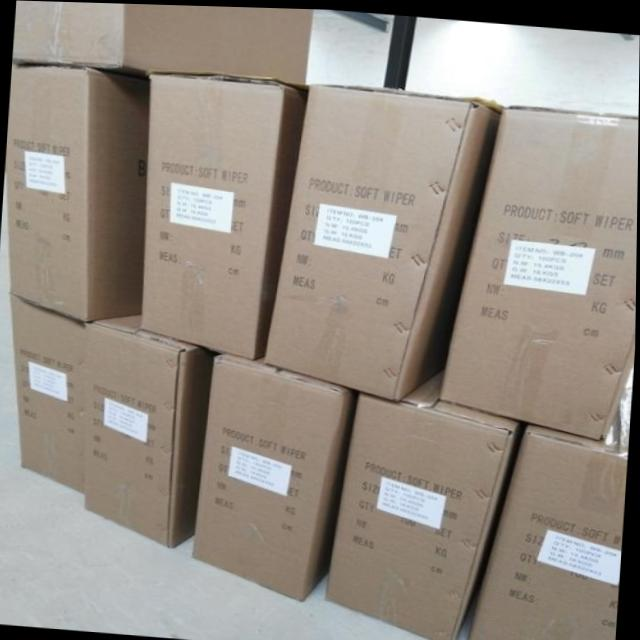box: (265, 83, 501, 399), (440, 103, 639, 436), (326, 365, 520, 640), (138, 69, 303, 360), (192, 353, 352, 598), (5, 65, 149, 322), (469, 419, 628, 640), (86, 312, 212, 547), (12, 0, 312, 83), (13, 296, 88, 493)
